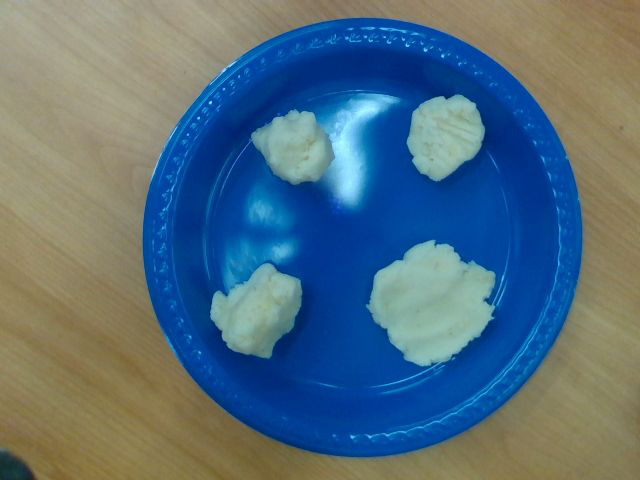mashed_potato: (371, 243, 494, 361), (210, 264, 302, 359), (407, 94, 484, 180), (251, 109, 334, 184)
